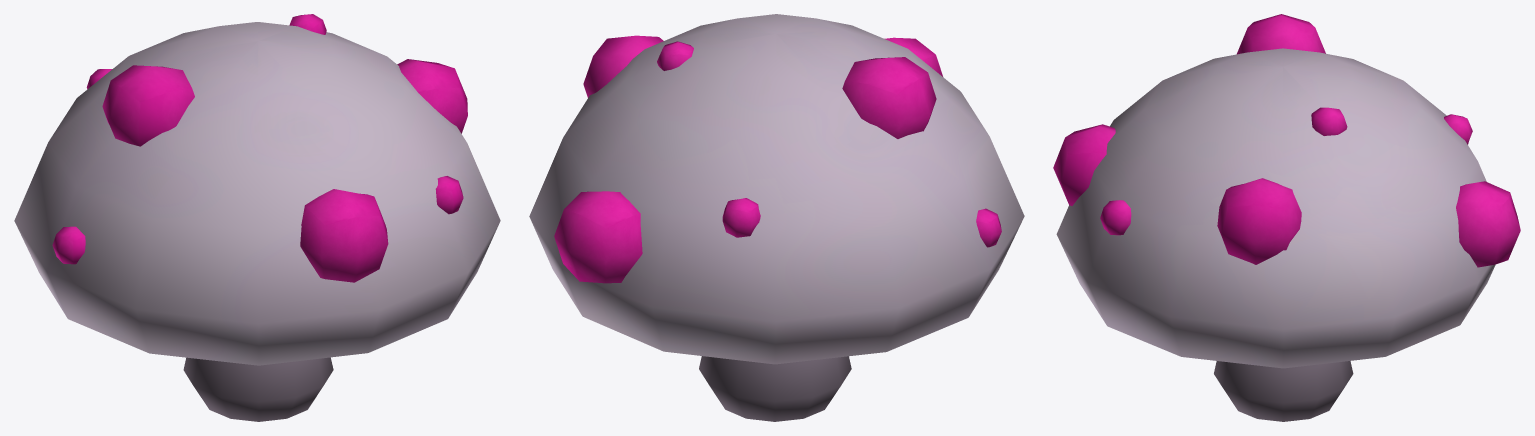
Rendered from cogumelo_interativo_textura.fbx.
3 renders of one model, left to right at view 1: azimuth 30°, elevation 25°; view 2: azimuth 150°, elevation 25°; view 3: azimuth 270°, elevation 25°, orthographic. The views are drawn at different scales.
Parts seen in each view (by area): view 1: Circle, Cube; view 2: Circle, Cube; view 3: Circle, Cube.
Part boxes in pixels (left/top/right/bottom): Circle: left=14, top=22, right=500, bottom=421; Cube: left=52, top=14, right=467, bottom=282; Circle: left=529, top=14, right=1024, bottom=421; Cube: left=554, top=35, right=1001, bottom=283; Circle: left=1056, top=48, right=1495, bottom=421; Cube: left=1053, top=14, right=1520, bottom=267.
Size of the model in its own units: 381 by 311 by 394.
Materials: 3 (3 with a texture image).
